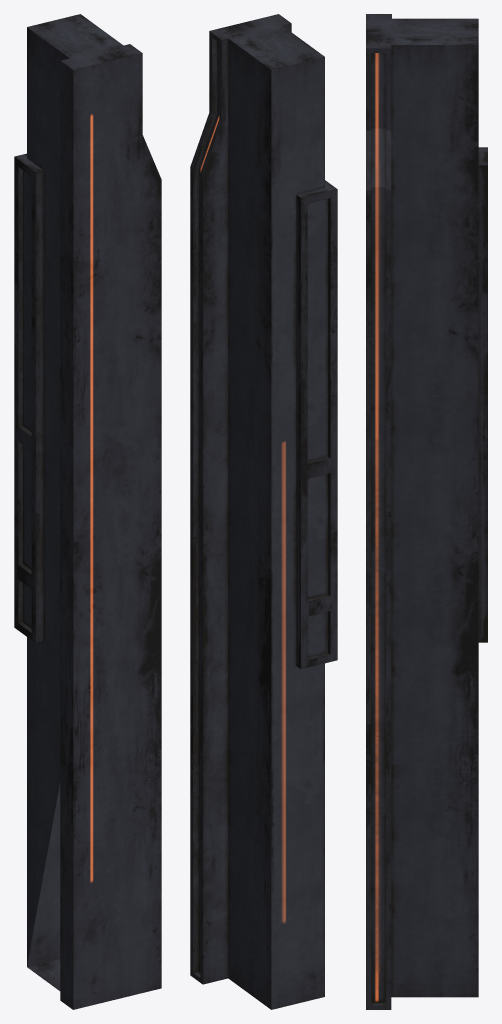
Rendered from Scifi-Building_02.glb.
The picture shows the model from 3 angles, left to right: view 1: azimuth 30°, elevation 25°; view 2: azimuth 210°, elevation 25°; view 3: azimuth 270°, elevation 25°; orthographic projection.
Parts seen in each view (by area): view 1: SB_02; view 2: SB_02; view 3: SB_02.
Part boxes in pixels (left/top/right/bottom): SB_02: left=14, top=14, right=161, bottom=1009; SB_02: left=190, top=14, right=337, bottom=1009; SB_02: left=366, top=14, right=487, bottom=1009.
Bounding box in the file's own units: 7.69 × 78.15 × 9.05.
1 material, 1 textured.
